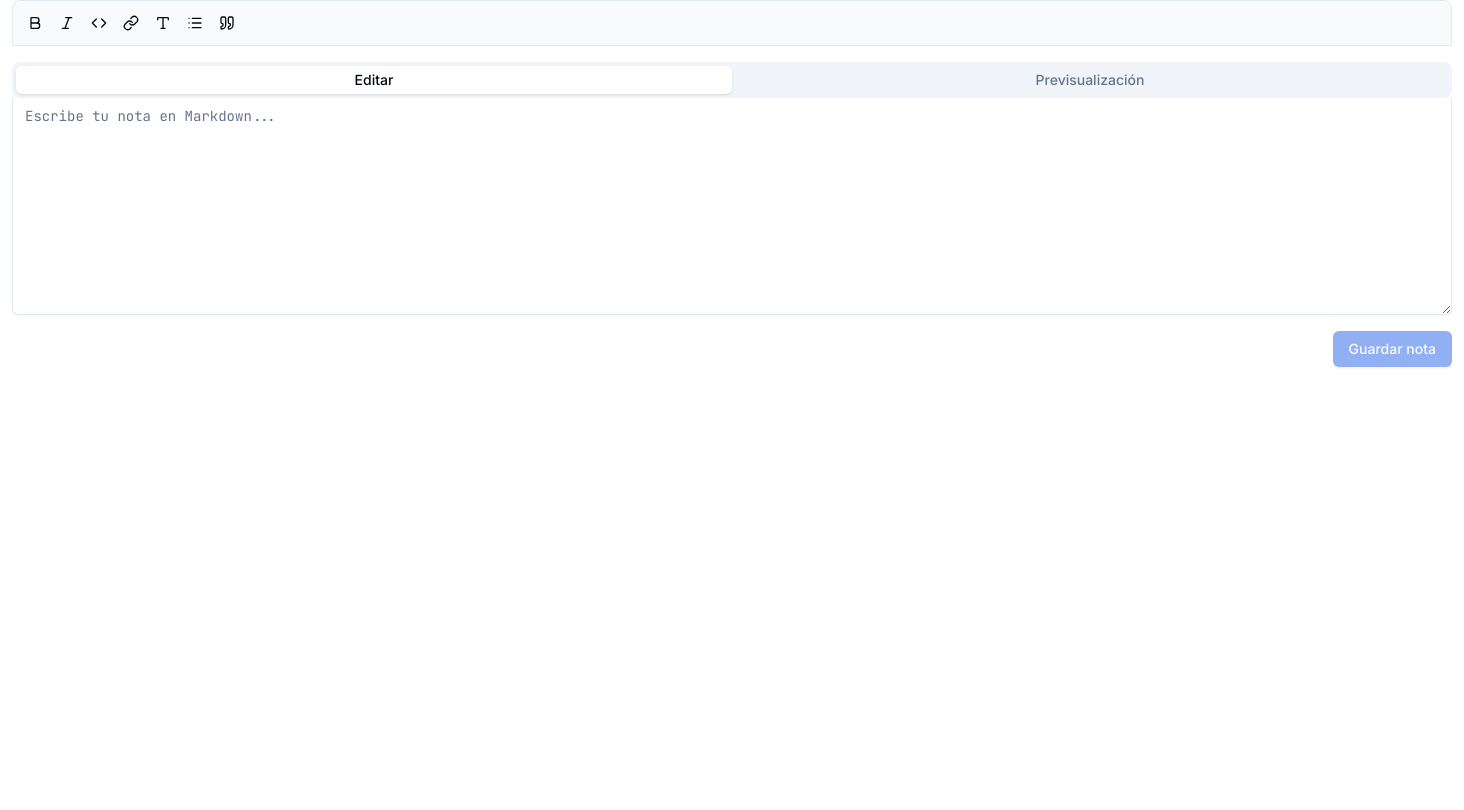
Test: NoteEditor › clears textarea and shows toast on successful save
This screenshot has width=1464, height=810.
Type "Test note content" into the text box with placeholder "Escribe tu nota en Markdown..." at x=732, y=206, box [12,98,1452,315]
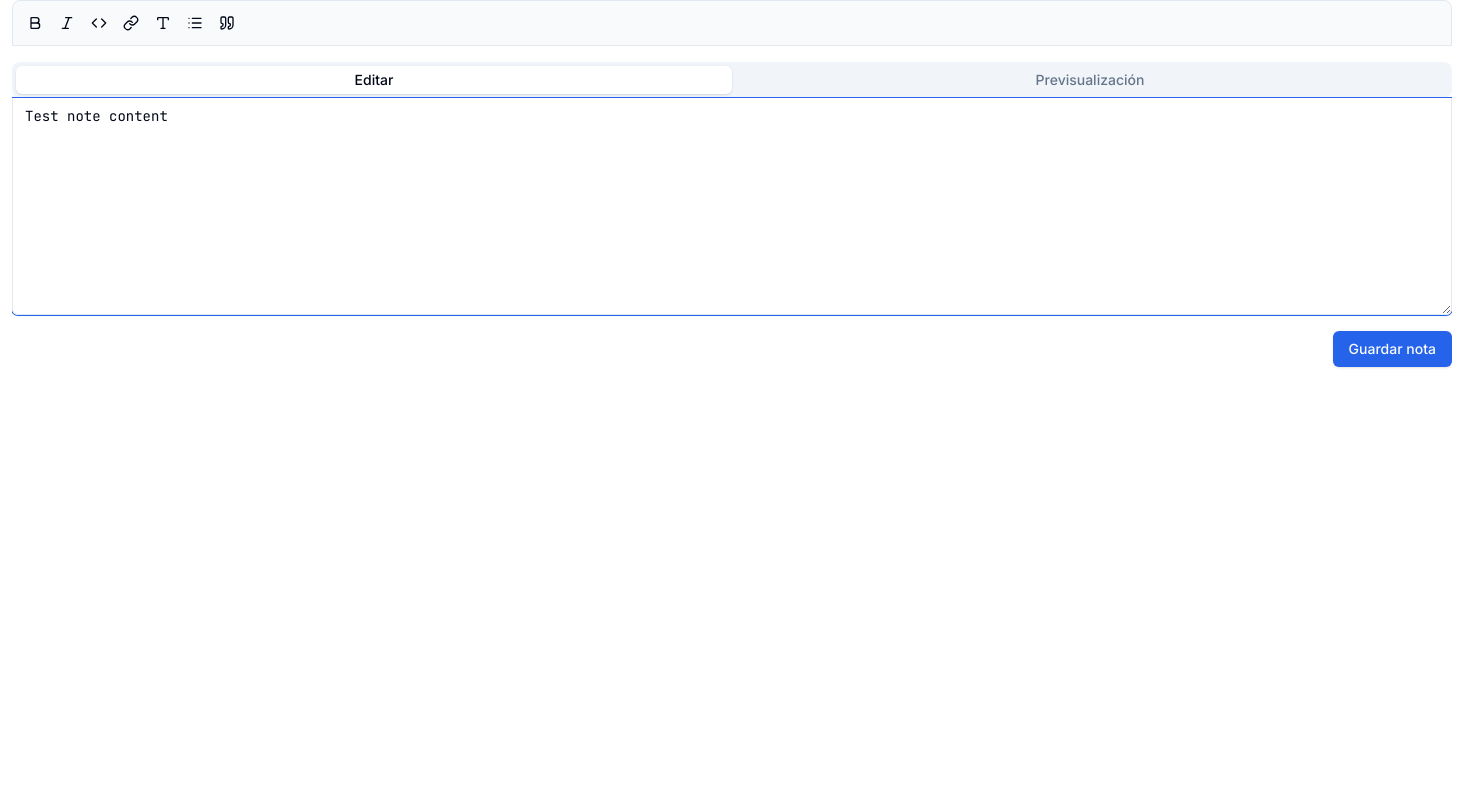
Click the button "Guardar nota" at x=1392, y=349, box [1333,331,1452,367]
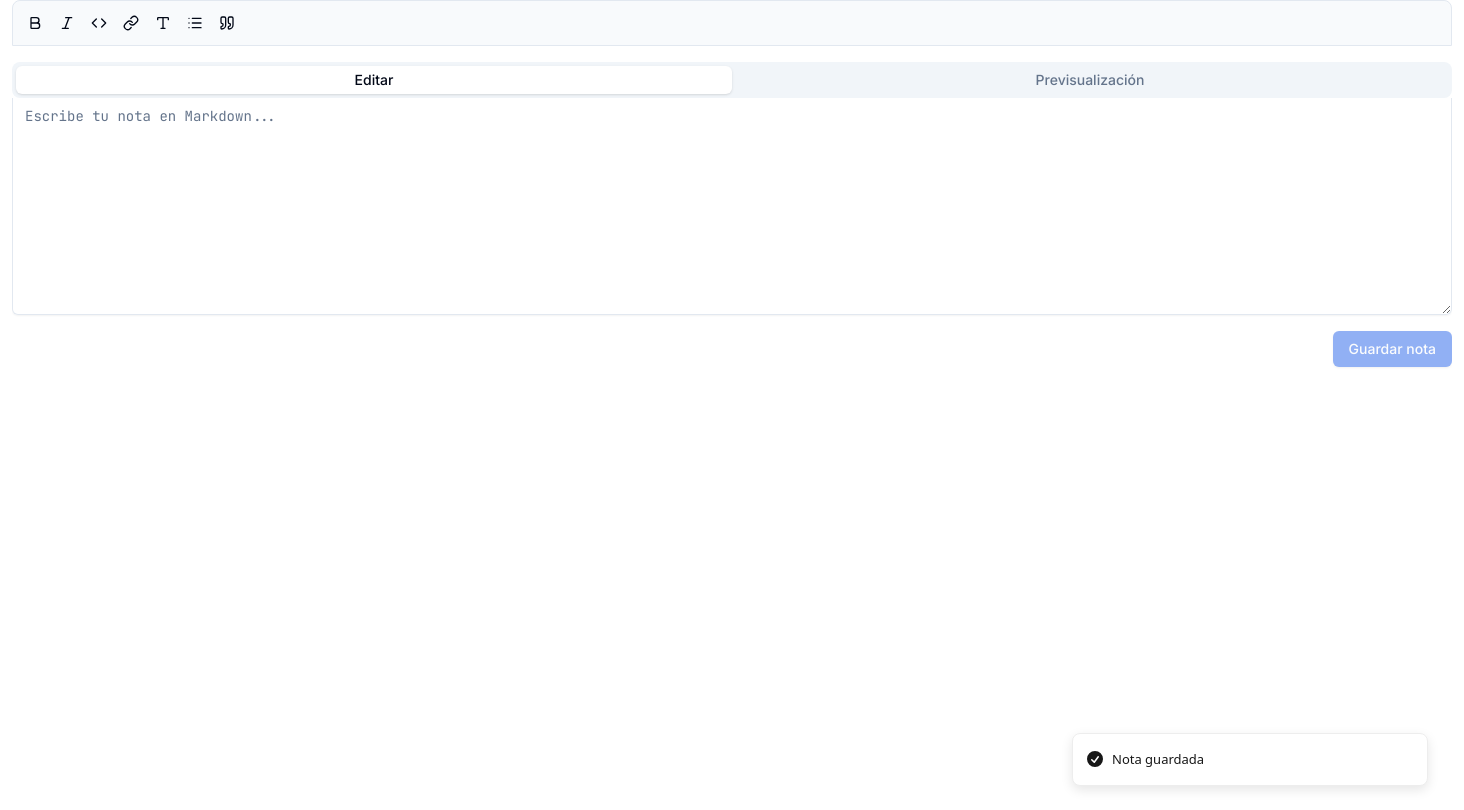
Expected: the text "Nota guardada" is shown, [1112,750,1204,769]
Expected: the text box with placeholder "Escribe tu nota en Markdown..." is empty, [12,98,1452,315]
